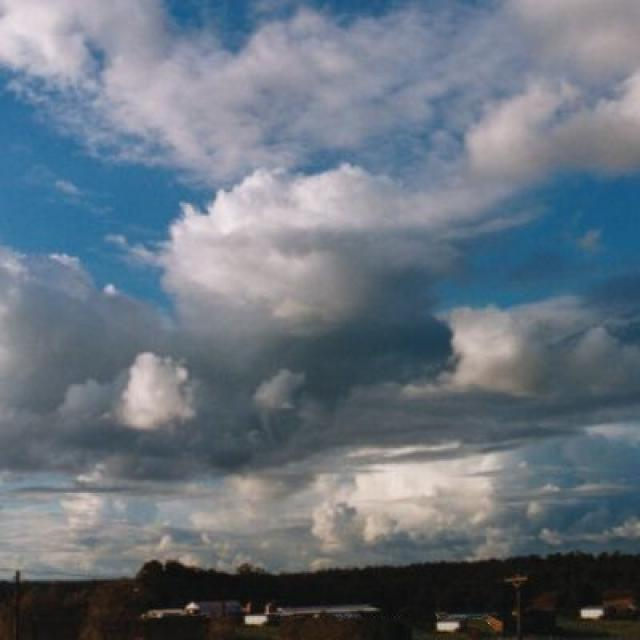Cu: (1, 100, 640, 520)
